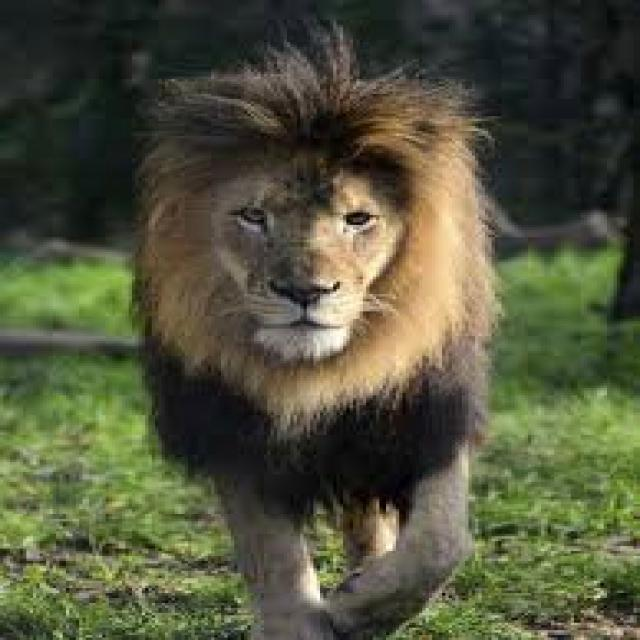lion: (132, 22, 495, 638)
